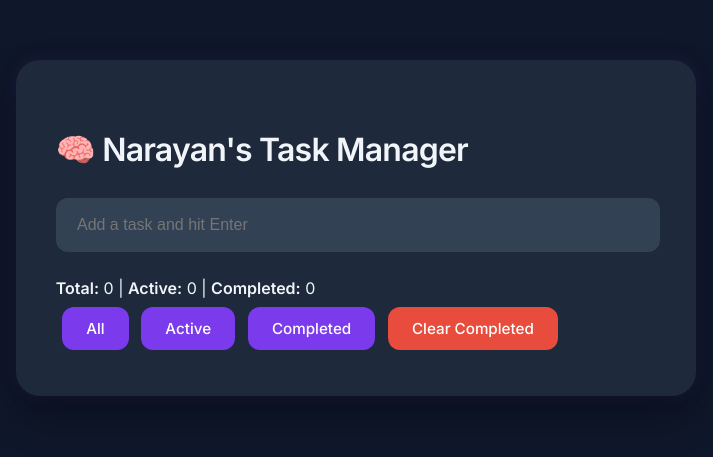
App core flows › deletes a task via the 🗑️ button
Type "Temp task" into the field with placeholder "Add a task and hit Enter" at (358, 225), box [56,198,660,252]
Then press Enter
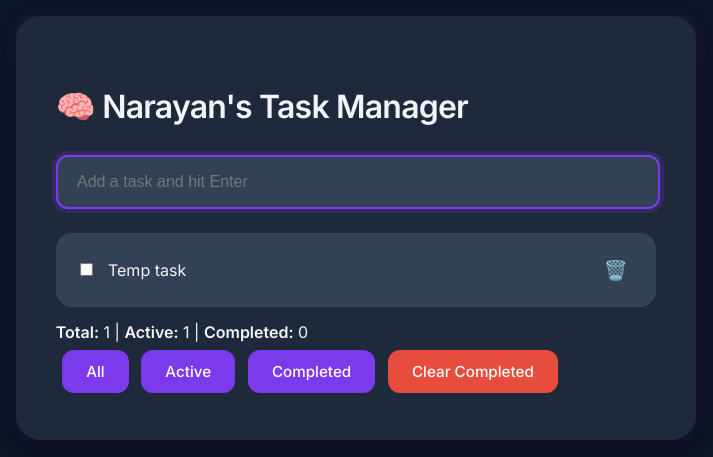
Click the button "🗑️" at (616, 270), box [596,250,636,290]
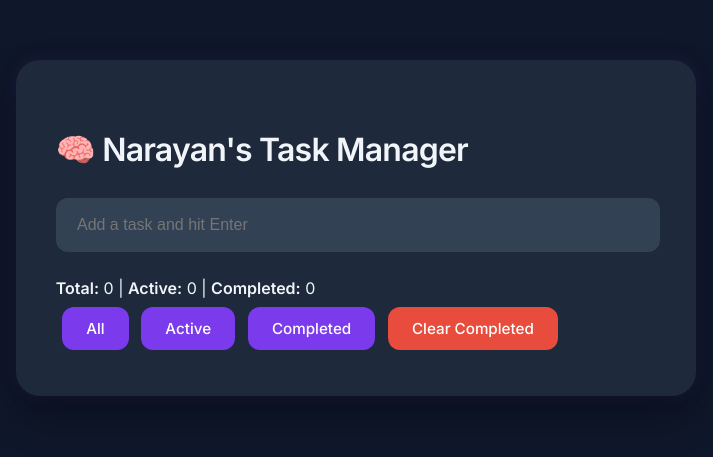
Check: the text "Temp task" is gone
